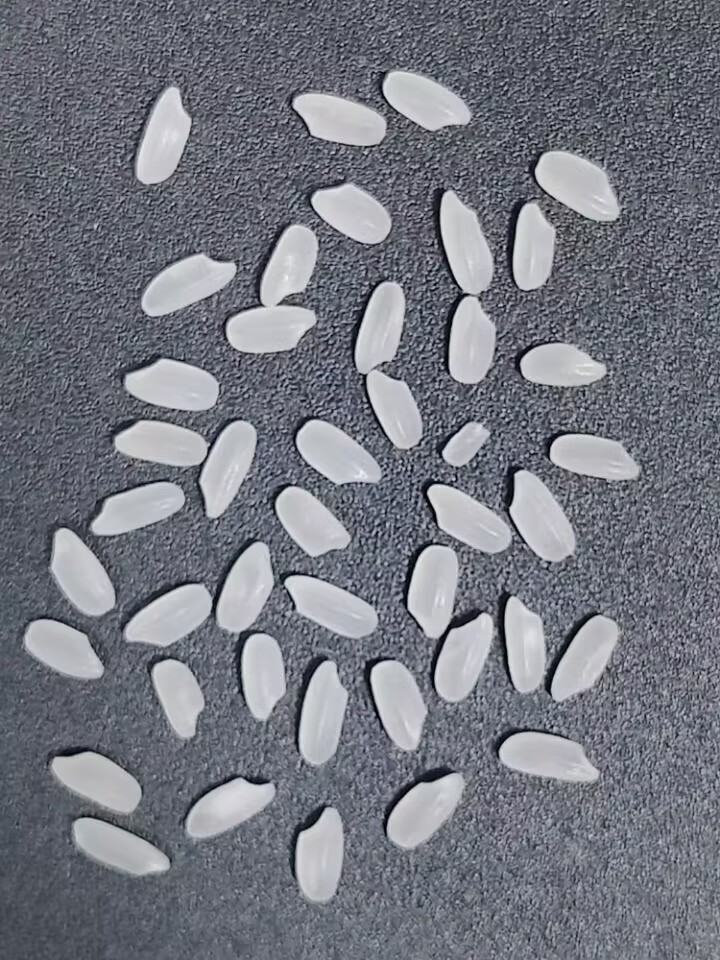broken: (434, 417, 499, 470)
rice: (544, 608, 622, 710), (530, 145, 625, 228), (132, 247, 241, 319), (66, 816, 176, 885), (129, 76, 197, 187), (41, 524, 120, 618), (117, 575, 216, 650), (178, 773, 284, 843), (191, 414, 259, 523), (290, 414, 387, 490), (382, 767, 468, 852), (490, 727, 605, 790), (433, 186, 498, 297), (506, 467, 577, 568), (281, 573, 381, 643), (45, 741, 142, 813), (425, 480, 517, 555), (271, 483, 355, 563), (377, 65, 474, 134), (116, 352, 222, 415), (84, 475, 187, 539), (255, 219, 324, 313), (19, 615, 109, 686), (307, 179, 400, 247), (429, 608, 494, 705), (286, 91, 389, 152), (291, 804, 348, 914), (365, 660, 430, 756), (210, 538, 276, 632), (350, 271, 409, 376), (148, 655, 211, 750), (297, 654, 350, 766), (443, 294, 504, 391), (541, 430, 647, 484), (106, 414, 212, 468), (406, 540, 460, 643), (495, 593, 548, 697), (357, 368, 424, 450), (236, 633, 291, 731), (223, 302, 322, 356), (515, 341, 612, 389), (509, 202, 558, 296)
